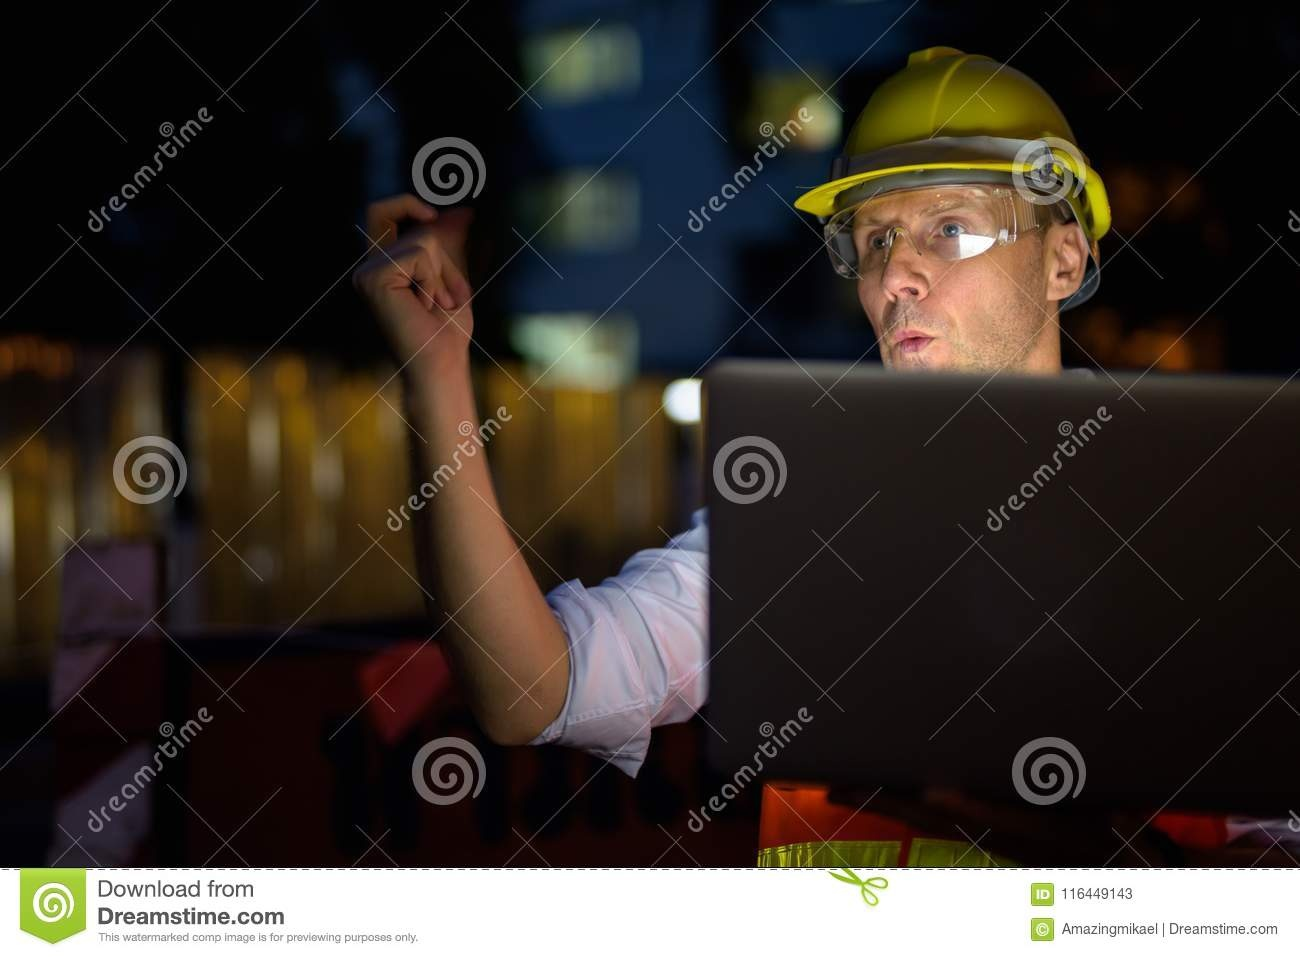yellow: (839, 39, 1106, 378)
